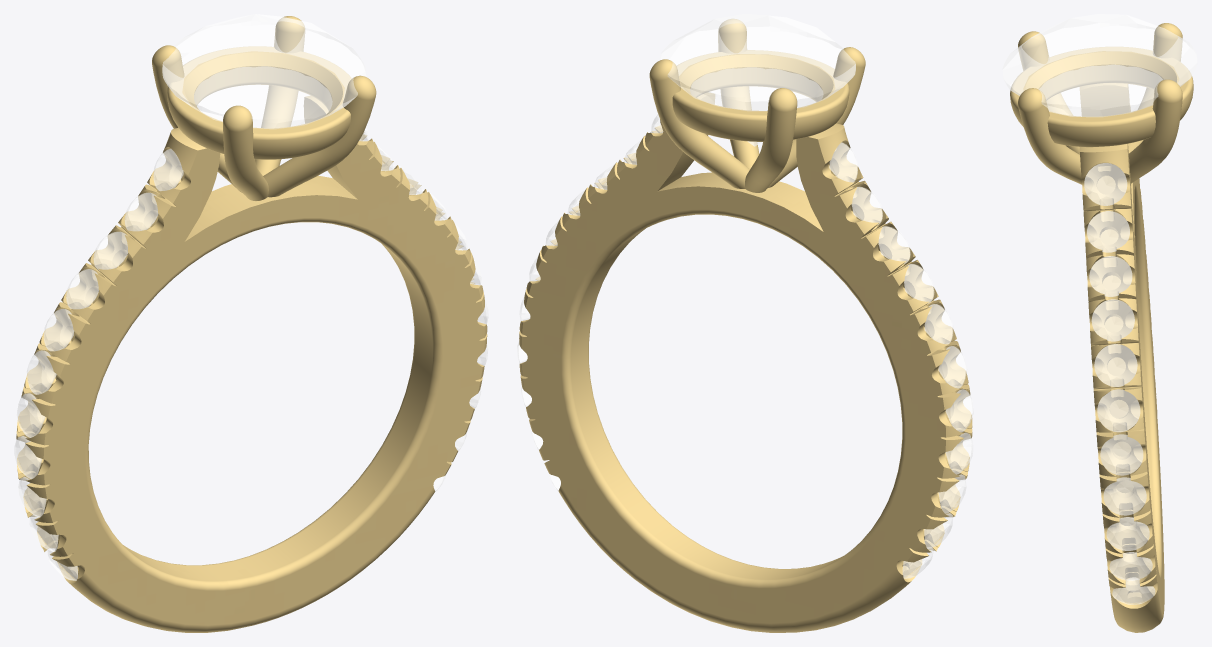
Rendered from ring-5.gltf.
The picture shows the model from 3 angles, left to right: view 1: azimuth 30°, elevation 25°; view 2: azimuth 150°, elevation 25°; view 3: azimuth 270°, elevation 25°; orthographic projection. The views are drawn at different scales.
Parts seen in each view (by area): view 1: platinum, stone 1, stone 4; view 2: platinum, stone 1, stone 4; view 3: platinum, stone 1, stone 4.
Boxes of the visible parts, box(x1,y1,x2,y2) form: platinum: box(16, 16, 487, 632); stone 1: box(162, 14, 366, 128); stone 4: box(14, 127, 488, 580); platinum: box(519, 19, 972, 632); stone 1: box(659, 14, 855, 146); stone 4: box(517, 114, 973, 578); platinum: box(1010, 23, 1193, 632); stone 1: box(1002, 14, 1197, 116); stone 4: box(1084, 163, 1155, 604).
Size of the model in its own units: 0.0213 by 0.0265 by 0.00815.
Materials: 6 (1 with a texture image).
